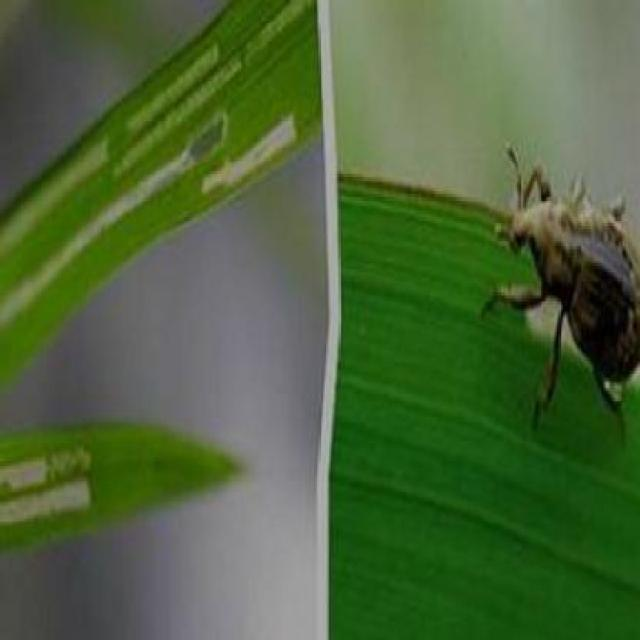rice-bug: (496, 158, 635, 414)
